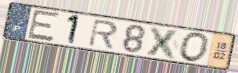1: (64, 14, 81, 47)
8: (121, 24, 147, 54)
E: (26, 9, 62, 44)
O: (178, 31, 212, 64)
R: (87, 18, 120, 51)
X: (144, 25, 183, 61)
